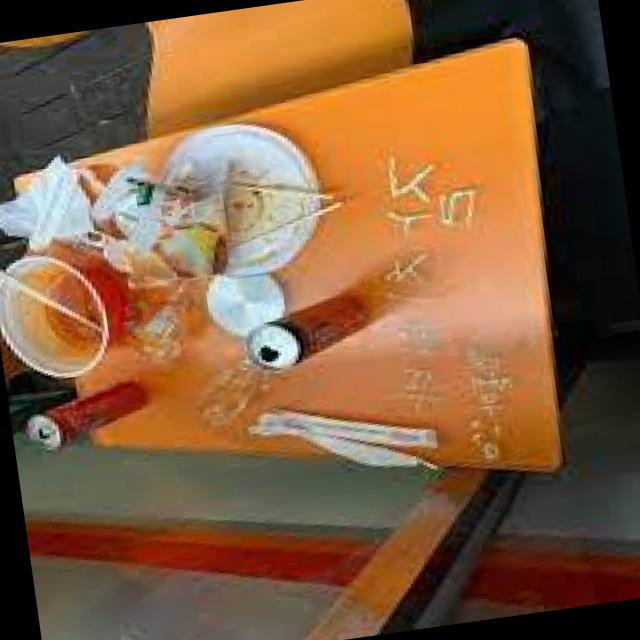Instant Noodle Cups: (0, 252, 128, 380)
can: (243, 293, 373, 375), (27, 382, 149, 450)
paper: (244, 405, 441, 472), (0, 148, 99, 254)
plastic-bag: (125, 279, 198, 379), (195, 362, 275, 436)
plastic-bowl: (163, 124, 324, 280)
trash: (203, 270, 288, 340)
wooden chopsticks: (0, 267, 105, 337), (219, 202, 341, 257), (222, 179, 338, 202)
